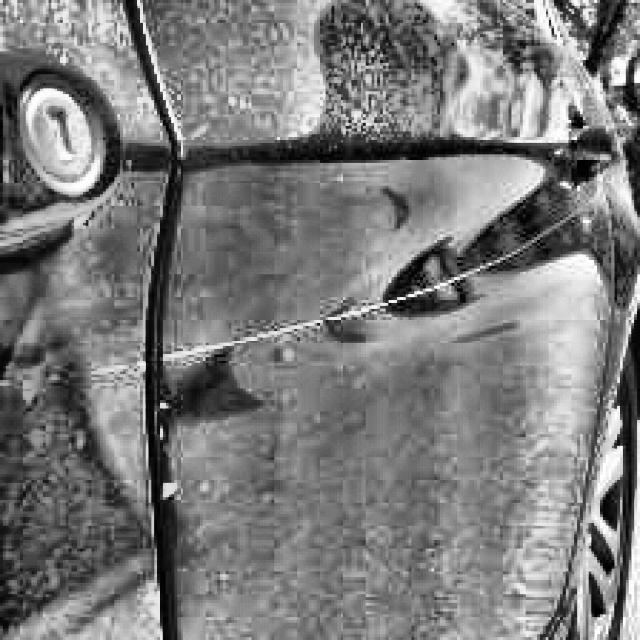door_scratch: (96, 296, 371, 373), (361, 224, 592, 297)
